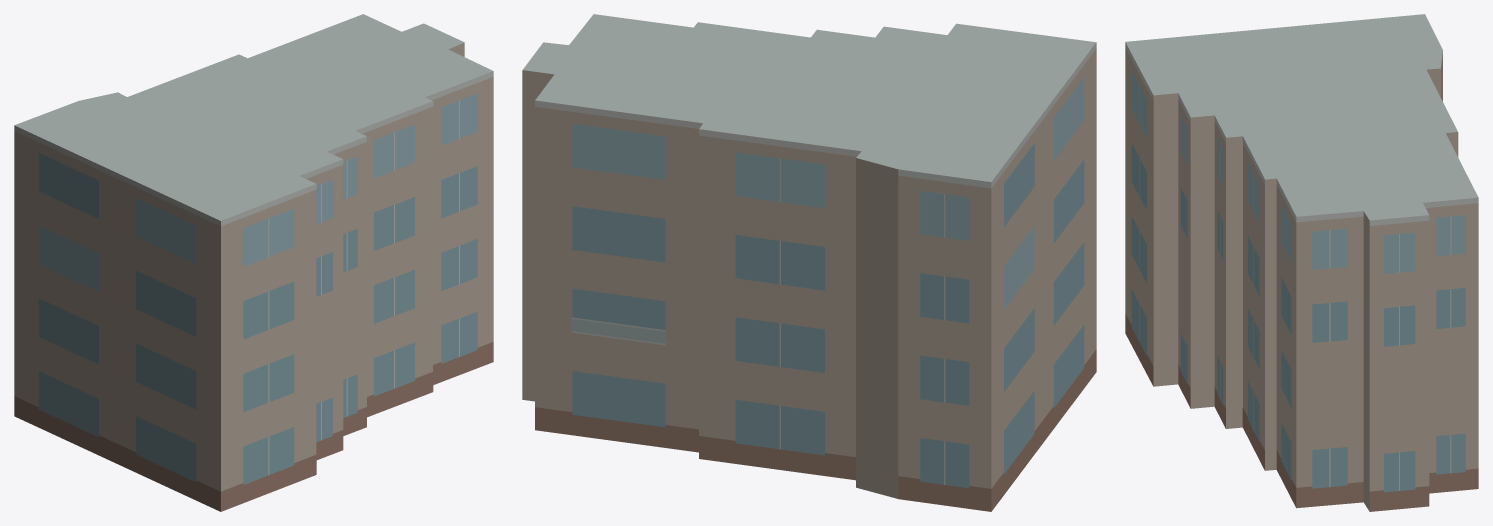
Rendered from survey-upis-32972588.glb.
3 views of the same model, side by side, from view 1: azimuth 30°, elevation 25°; view 2: azimuth 150°, elevation 25°; view 3: azimuth 270°, elevation 25° (orthographic). The views are drawn at different scales.
Visible parts, largest first — view 1: survey-upis-32972588.tmp; view 2: survey-upis-32972588.tmp; view 3: survey-upis-32972588.tmp.
Part boxes in pixels (x1,y1,x2,y2): survey-upis-32972588.tmp: (14,14,493,511); survey-upis-32972588.tmp: (522,14,1096,511); survey-upis-32972588.tmp: (1125,14,1478,511).
Size of the model in its own units: 19.48 by 12.8 by 14.08.
